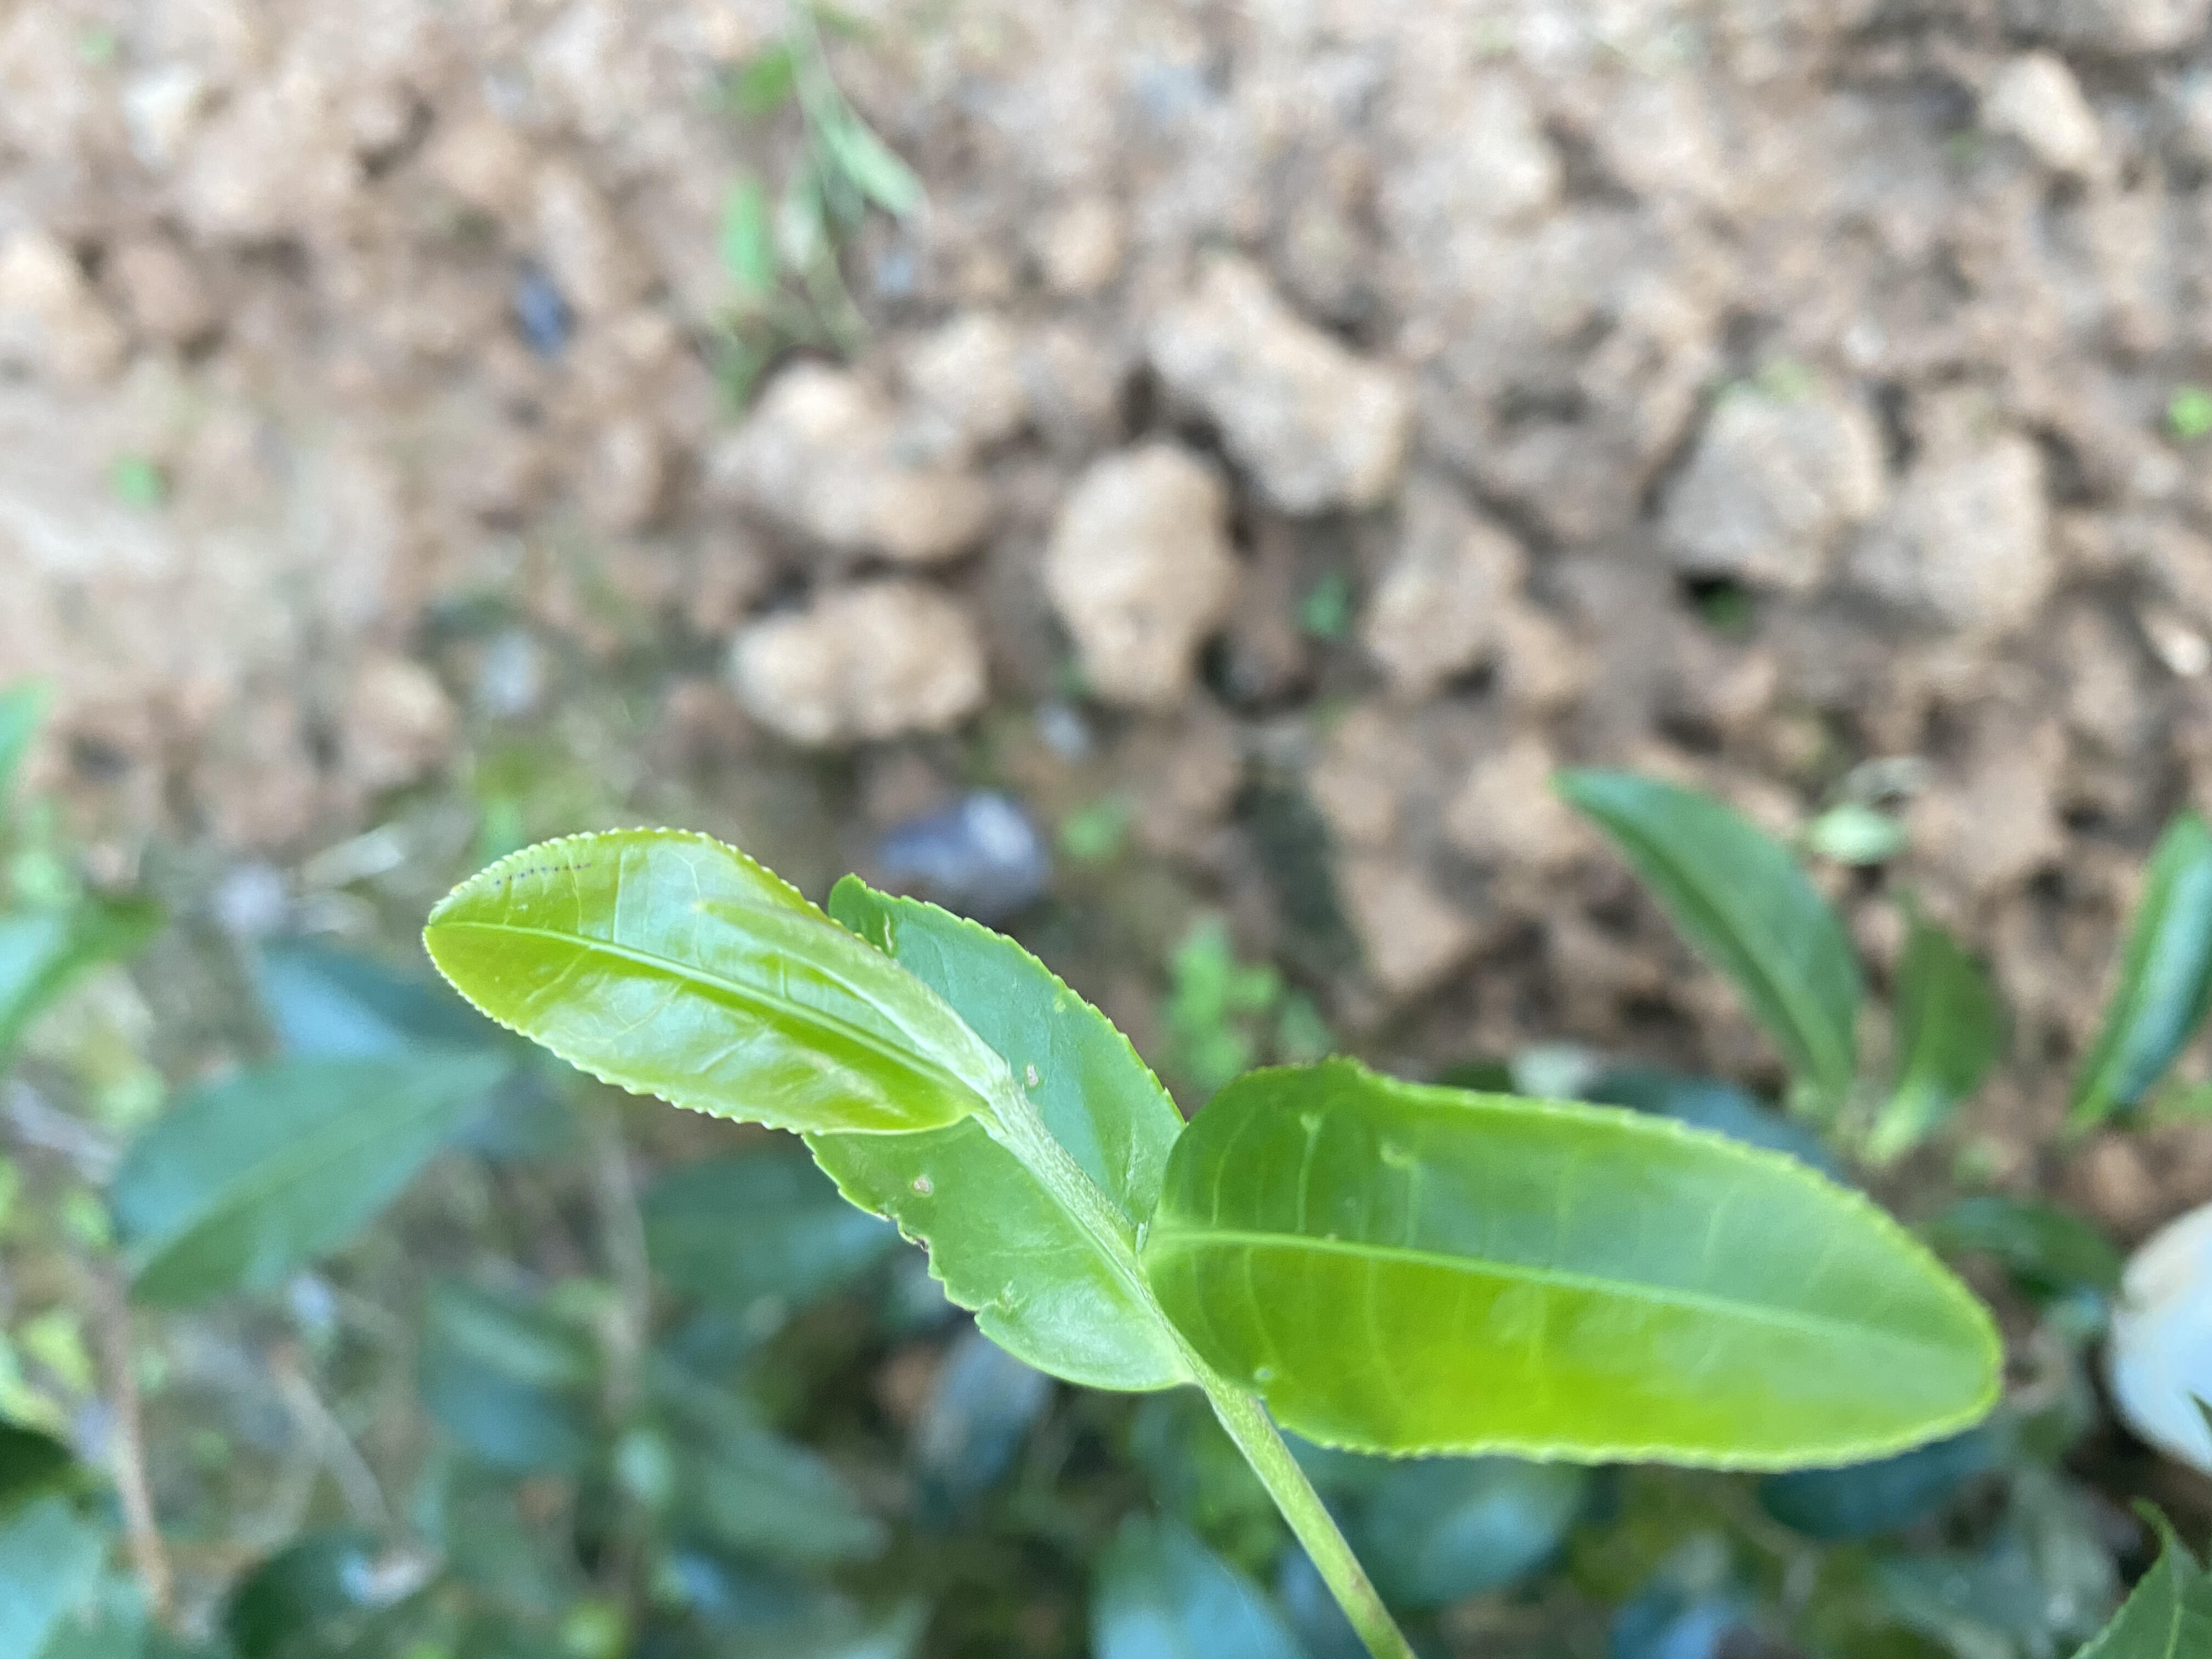healthy: (1137, 1058, 2003, 1471), (421, 826, 977, 1136)
